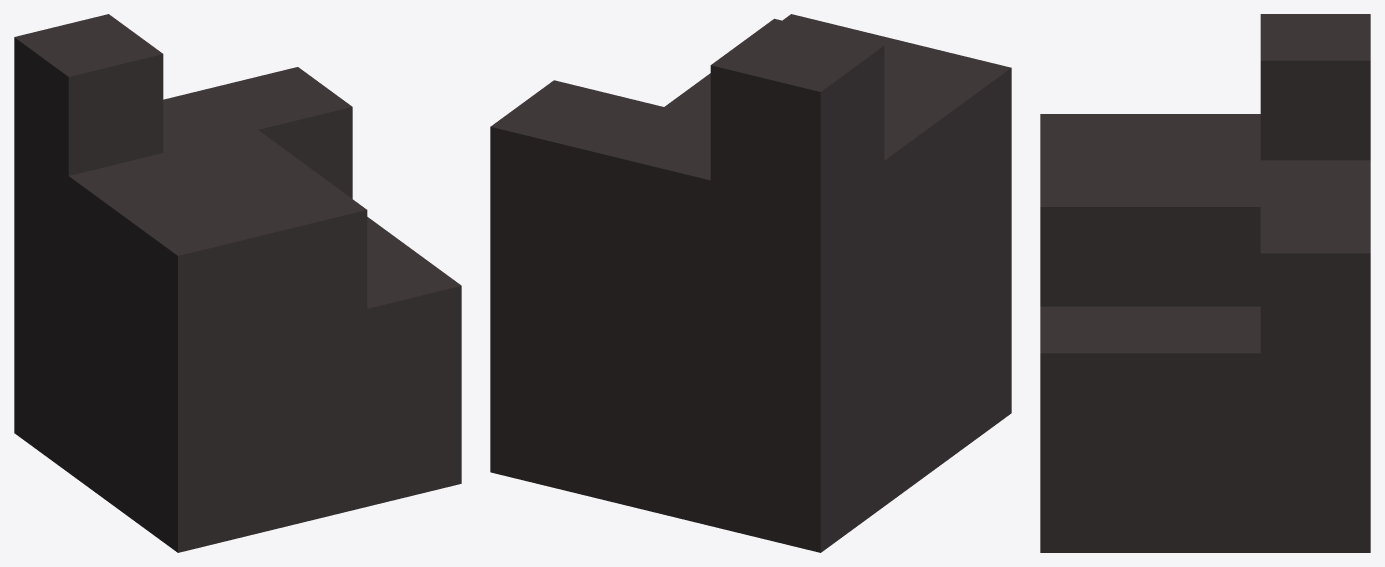
Rendered from badger__leg_br.glb.
3 views of the same model, side by side, from view 1: azimuth 30°, elevation 25°; view 2: azimuth 150°, elevation 25°; view 3: azimuth 270°, elevation 25° (orthographic). The views are drawn at different scales.
Parts seen in each view (by area): view 1: badger__leg_br; view 2: badger__leg_br; view 3: badger__leg_br.
Part boxes in pixels (x1,y1,x2,y2): badger__leg_br: (14,14,461,552); badger__leg_br: (490,14,1011,552); badger__leg_br: (1040,14,1370,552).
Size of the model in its own units: 0.3 by 0.4 by 0.3.
Materials: 1 (1 with a texture image).
